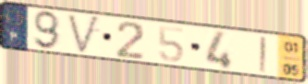2: (114, 20, 148, 62)
4: (203, 28, 235, 71)
5: (157, 24, 186, 63)
9: (32, 9, 64, 52)
I: (258, 35, 269, 75)
V: (65, 12, 103, 56)
